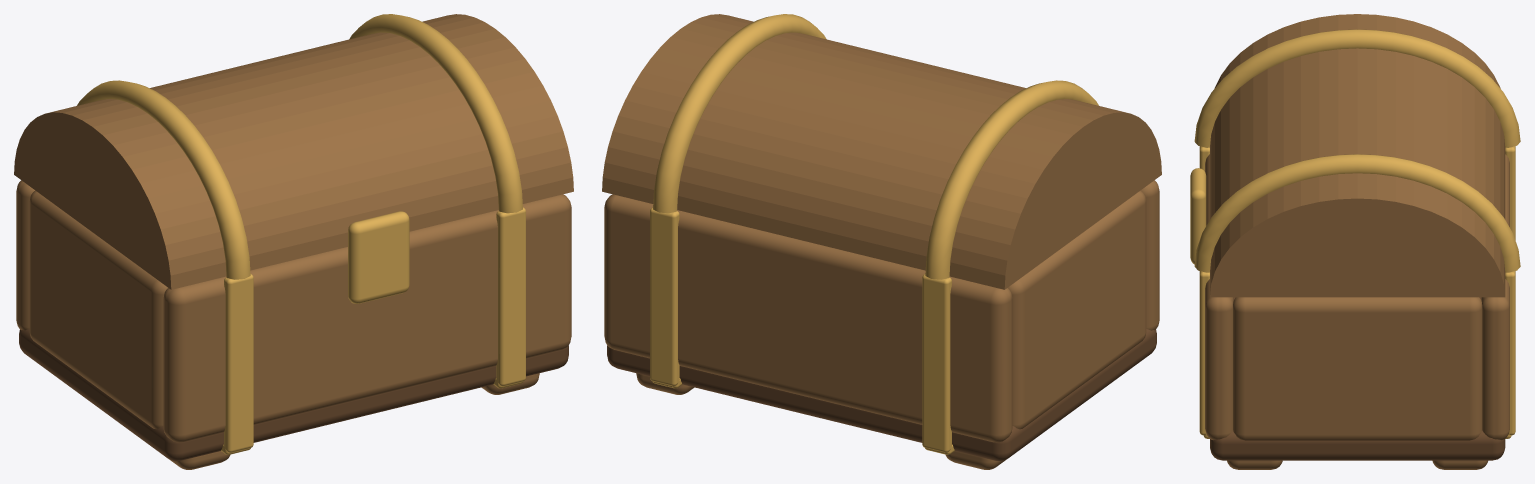
The model's file is treasure-chest.glb.
The picture shows the model from 3 angles, left to right: view 1: azimuth 30°, elevation 25°; view 2: azimuth 150°, elevation 25°; view 3: azimuth 270°, elevation 25°; orthographic projection. The views are drawn at different scales.
Parts seen in each view (by area): view 1: Chest_domed_lid, Chest_wall_z0.215, Chest_wall_x-0.32, Chest_floor, Chest_lid_band_0.23, Chest_lid_band_-0.23, Chest_latch, Chest_base_band_-0.23_0.237, Chest_base_band_0.23_0.237, Chest_wall_z-0.215, Chest_foot_-0.26_0.16; view 2: Chest_domed_lid, Chest_wall_z-0.215, Chest_wall_x-0.32, Chest_floor, Chest_lid_band_0.23, Chest_lid_band_-0.23, Chest_base_band_-0.23_-0.237, Chest_base_band_0.23_-0.237, Chest_wall_z0.215, Chest_foot_-0.26_-0.16; view 3: Chest_domed_lid, Chest_wall_x0.32, Chest_lid_band_0.23, Chest_lid_band_-0.23, Chest_floor, Chest_wall_z-0.215, Chest_wall_z0.215, Chest_latch, Chest_base_band_0.23_0.237, Chest_base_band_0.23_-0.237, Chest_base_band_-0.23_-0.237, Chest_foot_0.26_-0.16 (+1 smaller).
Boxes of the visible parts, box(x1,y1,x2,y2) form: Chest_domed_lid: box(14, 14, 573, 289); Chest_wall_z0.215: box(163, 194, 571, 442); Chest_wall_x-0.32: box(29, 190, 167, 429); Chest_floor: box(19, 329, 568, 461); Chest_lid_band_0.23: box(349, 14, 522, 213); Chest_lid_band_-0.23: box(77, 80, 250, 279); Chest_latch: box(348, 211, 409, 303); Chest_base_band_-0.23_0.237: box(224, 274, 253, 452); Chest_base_band_0.23_0.237: box(496, 207, 525, 386); Chest_wall_z-0.215: box(16, 180, 34, 330); Chest_foot_-0.26_0.16: box(169, 451, 230, 469); Chest_domed_lid: box(602, 14, 1161, 289); Chest_wall_z-0.215: box(604, 194, 1012, 442); Chest_wall_x-0.32: box(1008, 190, 1146, 429); Chest_floor: box(607, 329, 1156, 461); Chest_lid_band_0.23: box(653, 14, 826, 213); Chest_lid_band_-0.23: box(925, 80, 1098, 279); Chest_base_band_-0.23_-0.237: box(922, 274, 951, 452); Chest_base_band_0.23_-0.237: box(650, 207, 679, 386); Chest_wall_z0.215: box(1141, 180, 1159, 330); Chest_foot_-0.26_-0.16: box(945, 451, 1006, 469); Chest_domed_lid: box(1210, 14, 1505, 297); Chest_wall_x0.32: box(1233, 297, 1482, 440); Chest_lid_band_0.23: box(1194, 154, 1520, 272); Chest_lid_band_-0.23: box(1194, 29, 1520, 147); Chest_floor: box(1210, 297, 1505, 460); Chest_wall_z-0.215: box(1481, 154, 1509, 440); Chest_wall_z0.215: box(1205, 154, 1233, 440); Chest_latch: box(1190, 168, 1206, 264); Chest_base_band_0.23_0.237: box(1199, 271, 1209, 435); Chest_base_band_0.23_-0.237: box(1505, 271, 1515, 435); Chest_base_band_-0.23_-0.237: box(1505, 146, 1515, 240); Chest_foot_0.26_-0.16: box(1432, 460, 1487, 469).
Size of the model in its own units: 0.685 by 0.514 by 0.5144.
